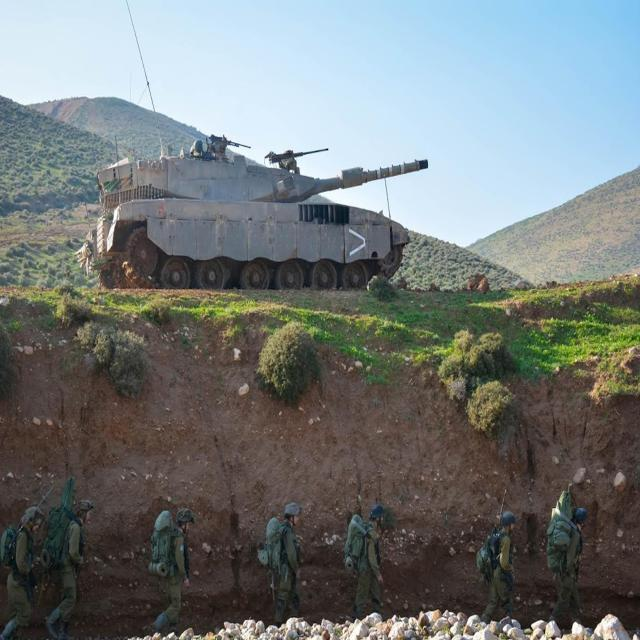MIL_MBT: (60, 118, 500, 338)
